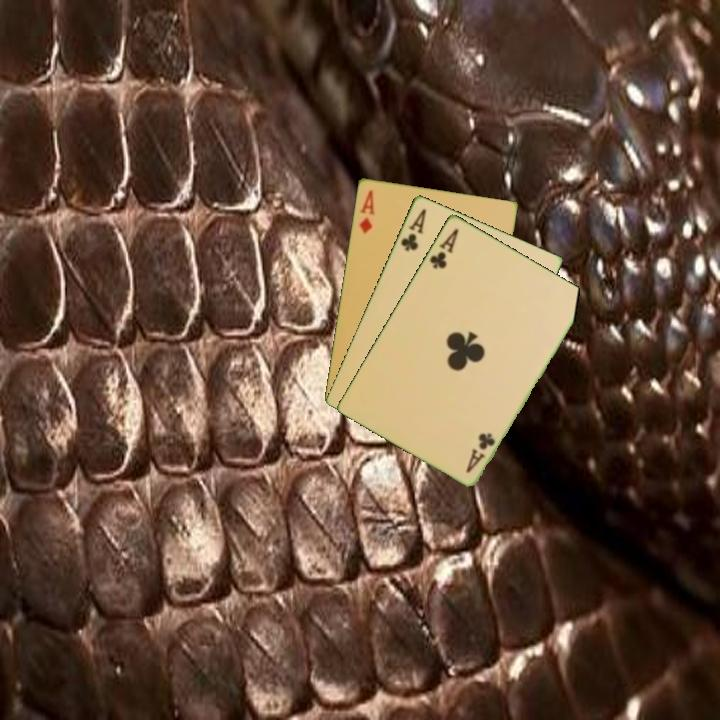Ac: (426, 225, 462, 271), (462, 429, 498, 475), (397, 204, 429, 254)
Ad: (355, 186, 377, 237)
